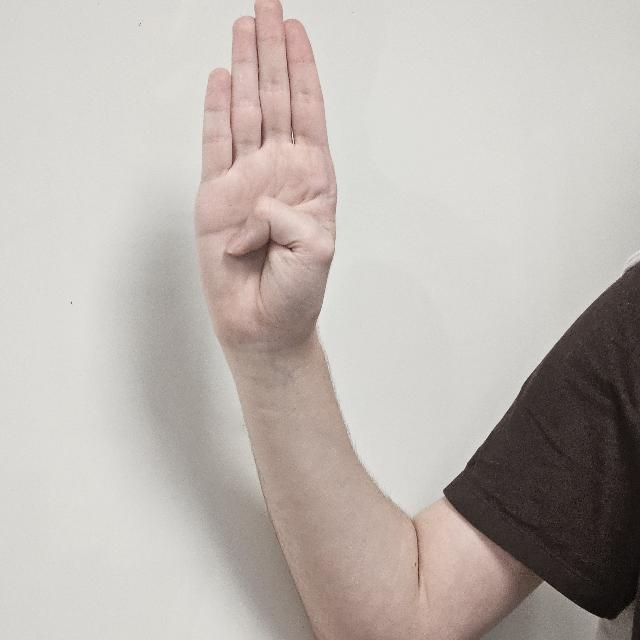Baixo: (189, 2, 351, 408)
